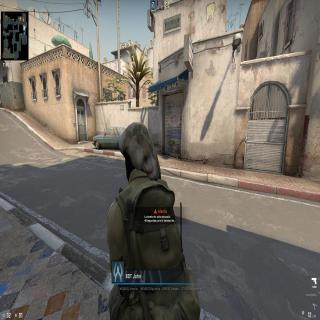CT-Head: (118, 117, 162, 186)
